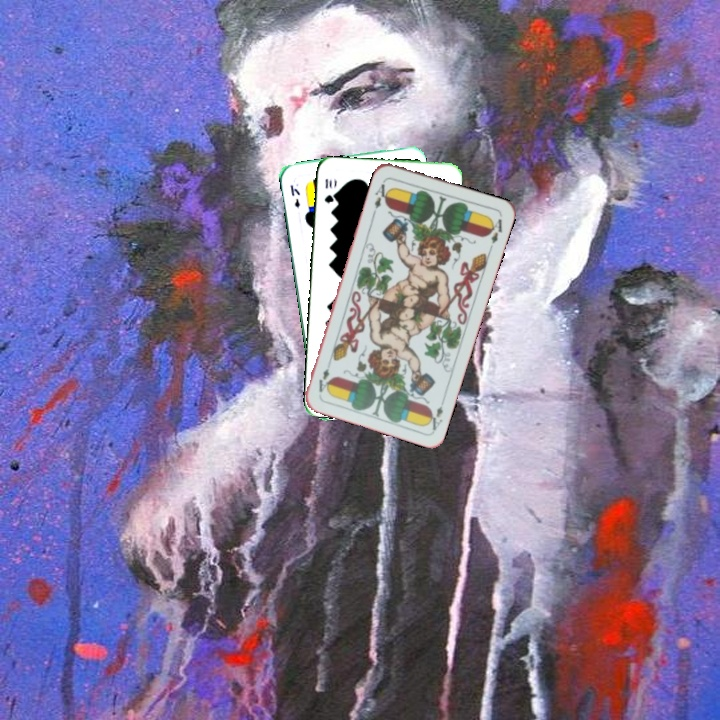EA: (423, 393, 448, 433), (370, 176, 393, 211)
EK: (286, 181, 303, 210)
G10: (321, 175, 336, 206)
